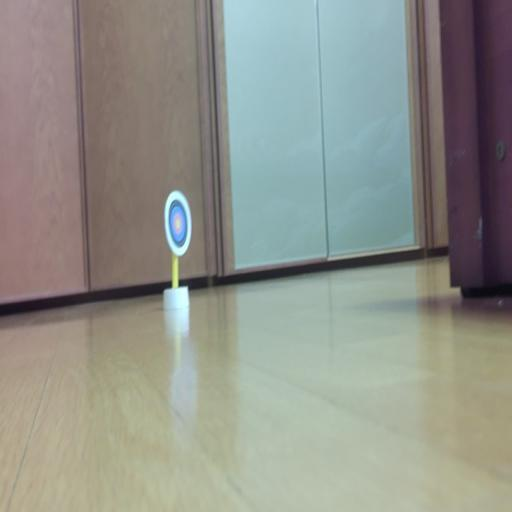target: (164, 191, 191, 256)
